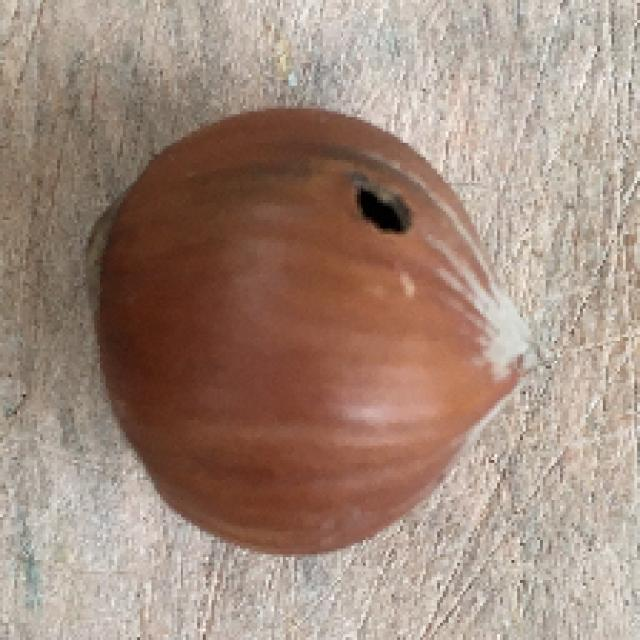damagedHazelnut: (77, 106, 533, 548)
